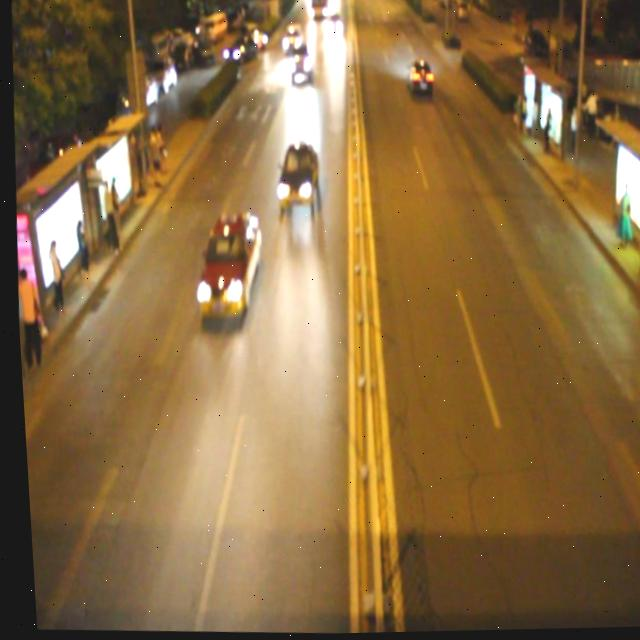car: (185, 209, 262, 325), (269, 143, 319, 209), (403, 62, 432, 102), (286, 42, 311, 80)
